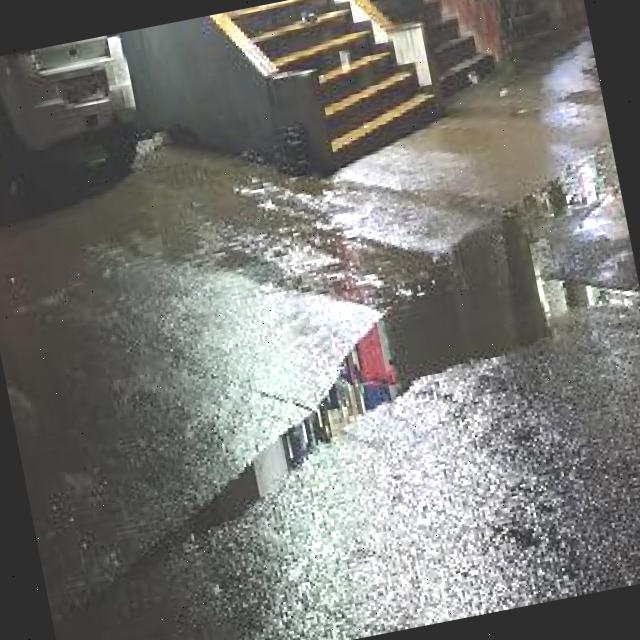stagnation: (63, 123, 640, 602)
